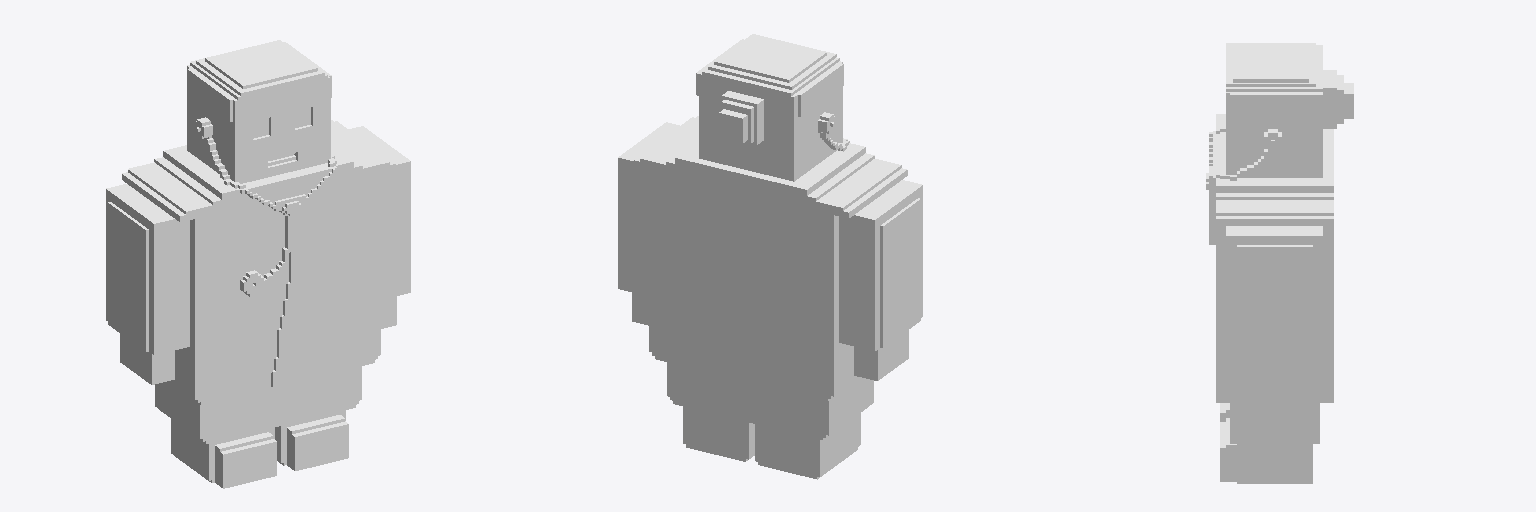
File: DOCTOR_FEMALE.obj
3 views of the same model, side by side, from view 1: azimuth 30°, elevation 25°; view 2: azimuth 150°, elevation 25°; view 3: azimuth 270°, elevation 25° (orthographic).
Parts seen in each view (by area): view 1: DOCTOR_FEMALE; view 2: DOCTOR_FEMALE; view 3: DOCTOR_FEMALE.
Boxes of the visible parts, <box> form: DOCTOR_FEMALE: <box>106,40,410,488</box>; DOCTOR_FEMALE: <box>618,34,922,479</box>; DOCTOR_FEMALE: <box>1206,43,1353,483</box>.
Size of the model in its own units: 88 by 125 by 43.